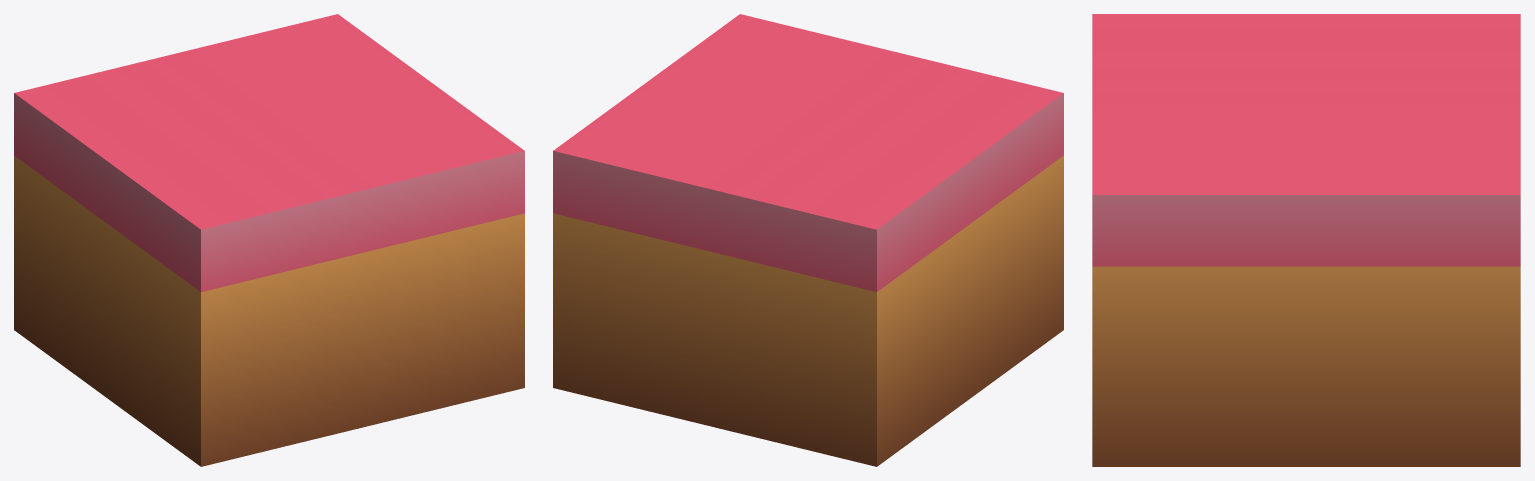
The model's file is m_SheetCake05_Slice03.fbx.
The picture shows the model from 3 angles, left to right: view 1: azimuth 30°, elevation 25°; view 2: azimuth 150°, elevation 25°; view 3: azimuth 270°, elevation 25°; orthographic projection. The views are drawn at different scales.
Visible parts, largest first — view 1: m_SheetCake05_Slice03; view 2: m_SheetCake05_Slice03; view 3: m_SheetCake05_Slice03.
Part boxes in pixels (<box>): m_SheetCake05_Slice03: <box>14,14,524,466</box>; m_SheetCake05_Slice03: <box>553,14,1063,466</box>; m_SheetCake05_Slice03: <box>1092,14,1520,466</box>.
Bounding box in the file's own units: 10 × 7 × 10.
